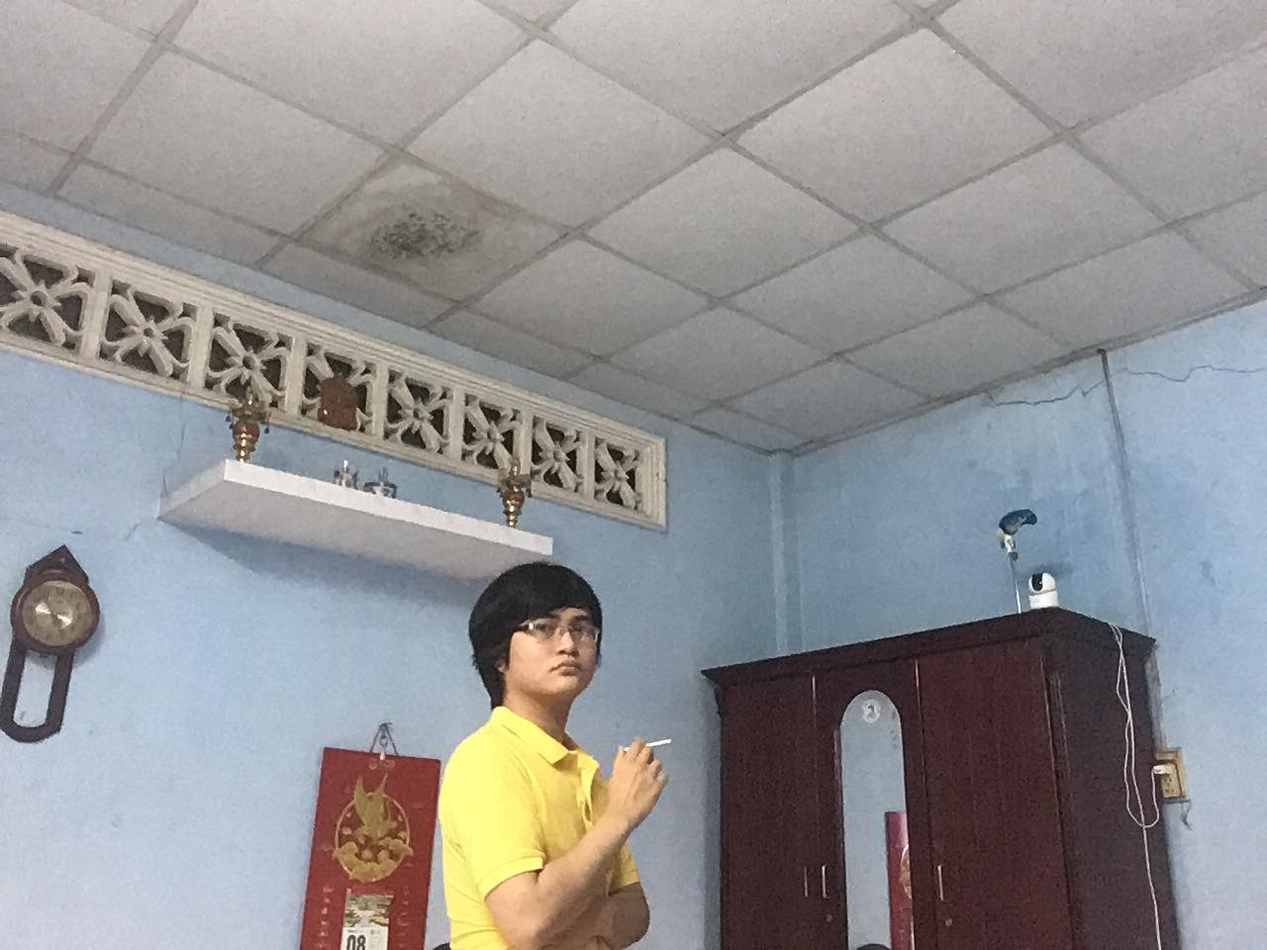cigarette: (644, 735, 675, 749)
person: (437, 559, 677, 950)
